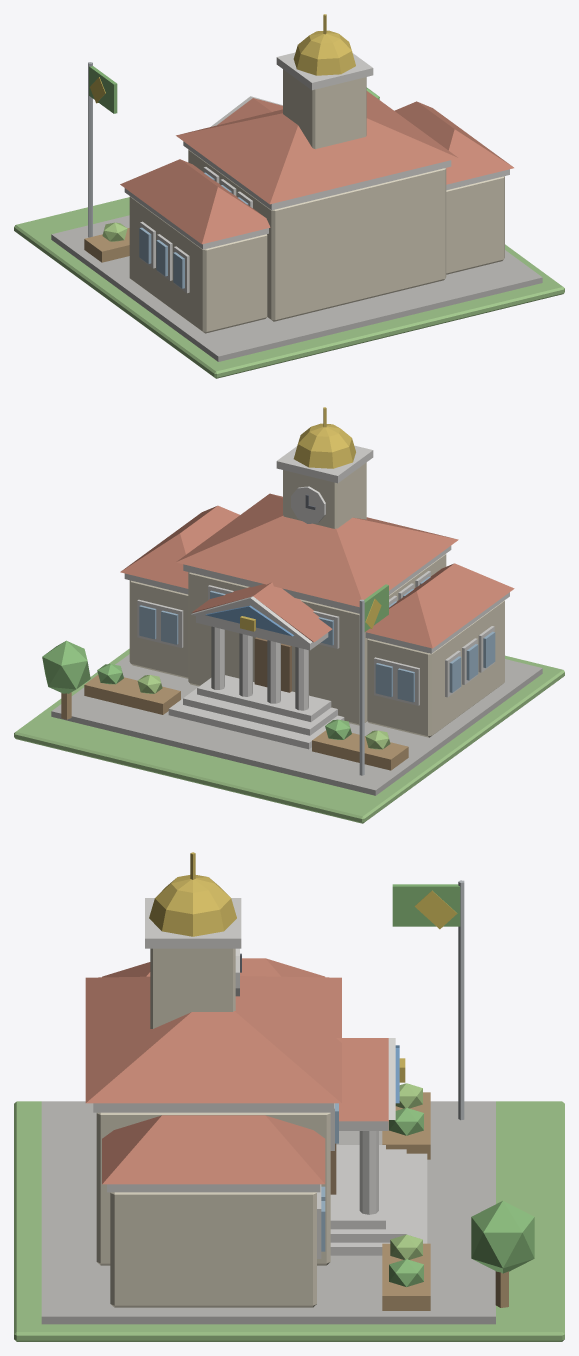
The model's file is publicos__prefeitura.glb.
3 views of the same model, one above another, from view 1: azimuth 30°, elevation 25°; view 2: azimuth 150°, elevation 25°; view 3: azimuth 270°, elevation 25° (orthographic). The views are drawn at different scales.
Parts seen in each view (by area): view 1: publicos__prefeitura; view 2: publicos__prefeitura; view 3: publicos__prefeitura.
Part boxes in pixels (x1,y1,x2,y2): publicos__prefeitura: (14, 14, 564, 378); publicos__prefeitura: (14, 407, 564, 823); publicos__prefeitura: (14, 852, 564, 1341).
Bounding box in the file's own units: 4 × 2.99 × 4.
